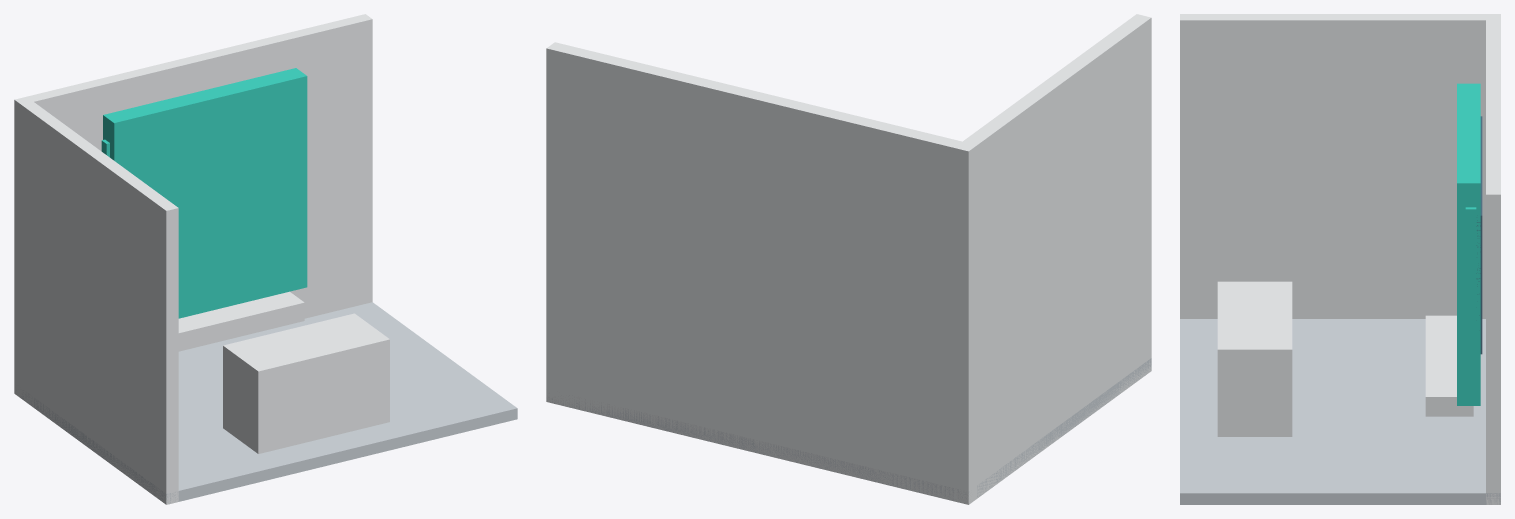
3 renders of one model, left to right at view 1: azimuth 30°, elevation 25°; view 2: azimuth 150°, elevation 25°; view 3: azimuth 270°, elevation 25°, orthographic. The views are drawn at different scales.
Visible parts, largest first — view 1: Exhibition Booth Concept; view 2: Exhibition Booth Concept; view 3: Exhibition Booth Concept.
Part boxes in pixels (x1,y1,x2,y2): Exhibition Booth Concept: [14, 14, 517, 504]; Exhibition Booth Concept: [546, 14, 1151, 504]; Exhibition Booth Concept: [1180, 14, 1500, 504].
Size of the model in its own units: 4 by 3.2 by 3.
